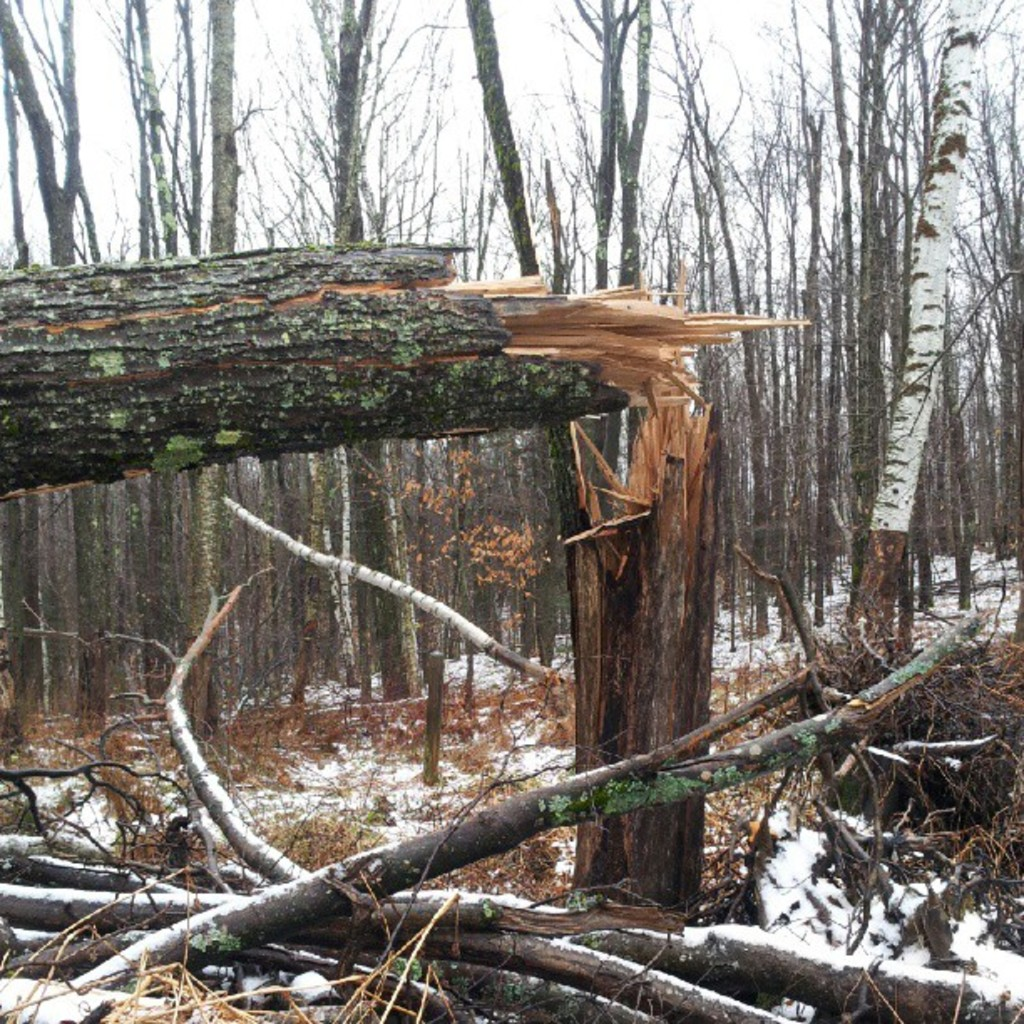Tree: (0, 2, 1024, 1023)
